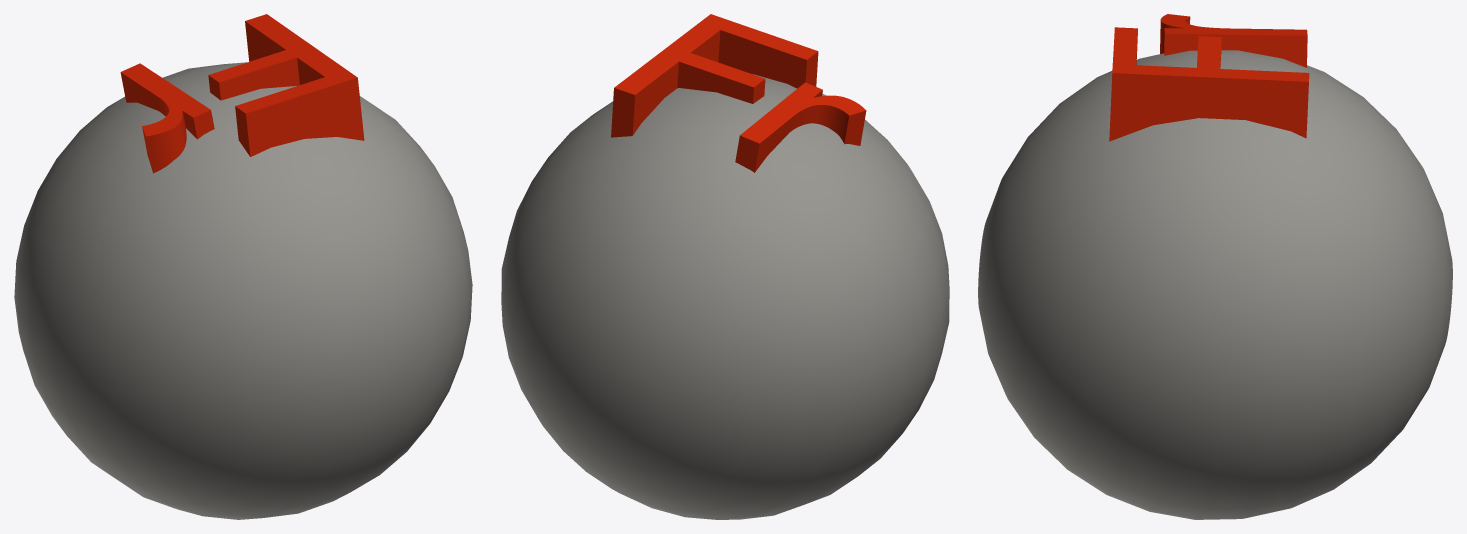
3 views of the same model, side by side, from view 1: azimuth 30°, elevation 25°; view 2: azimuth 150°, elevation 25°; view 3: azimuth 270°, elevation 25° (orthographic). The views are drawn at different scales.
Parts seen in each view (by area): view 1: Hf001, Object011, Object012; view 2: Hf001, Object011, Object012; view 3: Hf001, Object011, Object012.
Part boxes in pixels (box(x1,y1,x2,y2)): Hf001: box(14, 62, 472, 519); Object011: box(208, 14, 364, 156); Object012: box(120, 63, 214, 173); Hf001: box(501, 74, 949, 519); Object011: box(611, 14, 818, 137); Object012: box(735, 82, 866, 172); Hf001: box(978, 50, 1452, 519); Object011: box(1109, 27, 1309, 141); Object012: box(1160, 14, 1307, 67).
Size of the model in its own units: 38.67 by 41.14 by 38.66.
